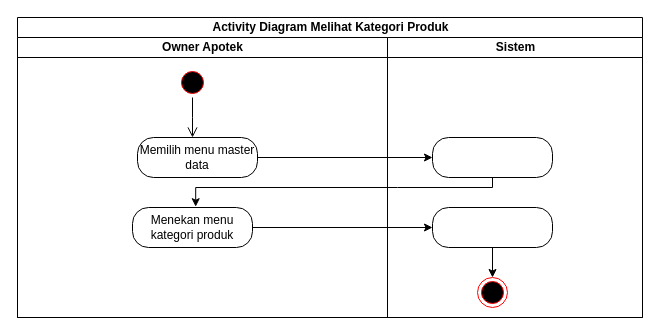
Some shapes in this 660 by 335 pixel diagram are drawn without their labels. The shapes that lost their labels are listed below. From the top down, each one's centre as x and y in pixels, then its label:
point (492, 157): Menampilkan dropdown pilihan menu
point (492, 227): Menampilkan data kategori produk
